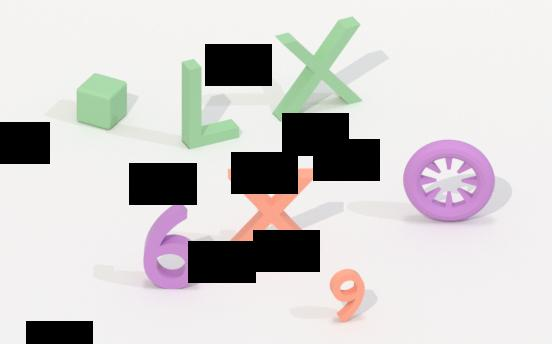6: (140, 202, 203, 290)
9: (327, 267, 370, 324)
hop: (73, 71, 134, 133)
l: (177, 58, 247, 150)
tron: (401, 138, 502, 224)
x: (269, 14, 366, 124), (223, 167, 324, 258)
